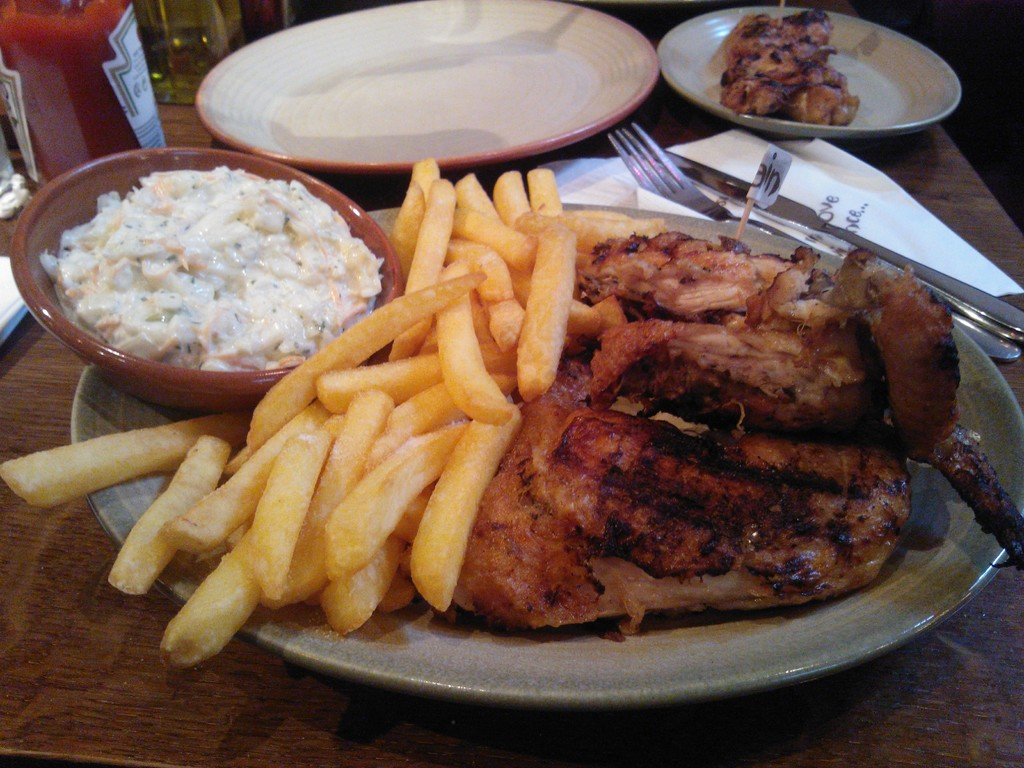French fries: (0, 149, 679, 674)
